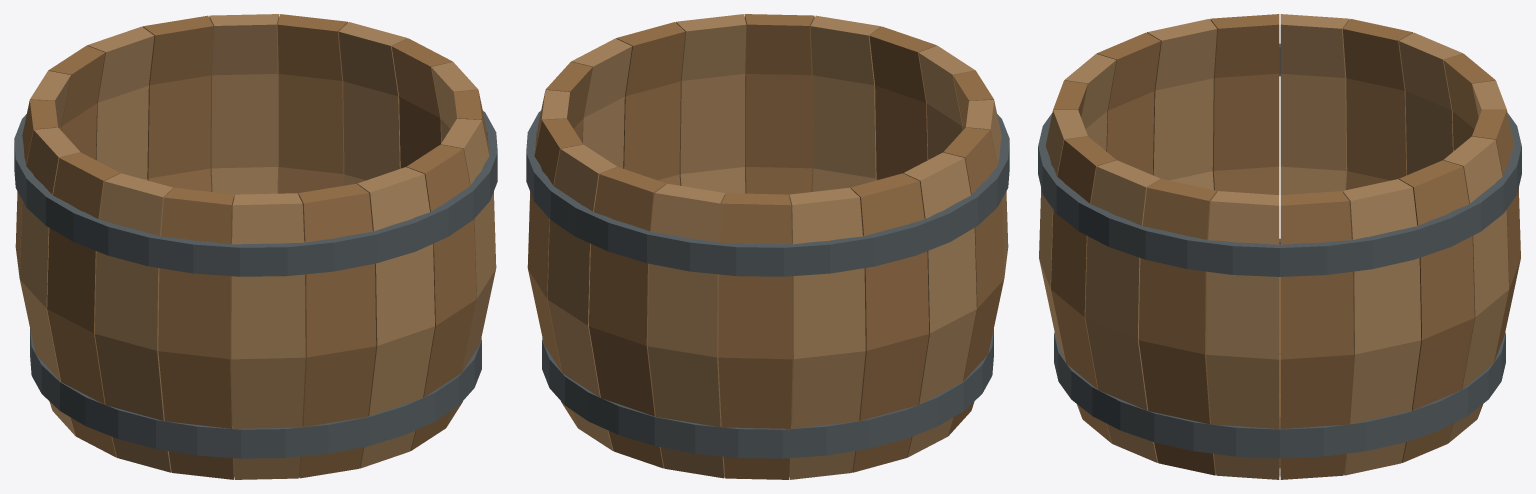
Rendered from barrel_half_open.glb.
The picture shows the model from 3 angles, left to right: view 1: azimuth 30°, elevation 25°; view 2: azimuth 150°, elevation 25°; view 3: azimuth 270°, elevation 25°; orthographic projection.
Parts seen in each view (by area): view 1: Half barrel iron band.001, Open half barrel wooden stave.013, Open half barrel wooden stave.012, Open half barrel wooden stave.014, Half barrel iron band, Open half barrel wooden stave.011, Open half barrel wooden stave.015, Open half barrel wooden stave.003, Open half barrel wooden stave.002, Open half barrel wooden stave.004, Open half barrel wooden stave.010, Open half barrel wooden stave.016 (+10 smaller); view 2: Half barrel iron band.001, Open half barrel wooden stave.006, Open half barrel wooden stave.007, Open half barrel wooden stave.005, Half barrel iron band, Open half barrel wooden stave.008, Open half barrel wooden stave.004, Open half barrel wooden stave.016, Open half barrel wooden stave.017, Open half barrel wooden stave.015, Open half barrel wooden stave.009, Open half barrel wooden stave.003 (+10 smaller); view 3: Half barrel iron band.001, Open half barrel wooden stave, Open half barrel wooden stave.019, Open half barrel wooden stave.001, Open half barrel wooden stave.018, Half barrel iron band, Open half barrel wooden stave.009, Open half barrel wooden stave.010, Open half barrel wooden stave.002, Open half barrel wooden stave.017, Open half barrel wooden stave.008, Open half barrel wooden stave.011 (+10 smaller).
Part boxes in pixels (left/top/right/bottom): Half barrel iron band.001: left=14, top=111, right=497, bottom=276; Open half barrel wooden stave.013: left=231, top=193, right=305, bottom=479; Open half barrel wooden stave.012: left=158, top=187, right=234, bottom=479; Open half barrel wooden stave.014: left=298, top=183, right=376, bottom=478; Half barrel iron band: left=30, top=329, right=481, bottom=458; Open half barrel wooden stave.011: left=94, top=173, right=173, bottom=472; Open half barrel wooden stave.015: left=357, top=167, right=434, bottom=468; Open half barrel wooden stave.003: left=209, top=14, right=279, bottom=197; Open half barrel wooden stave.002: left=277, top=14, right=347, bottom=194; Open half barrel wooden stave.004: left=142, top=15, right=213, bottom=191; Open half barrel wooden stave.010: left=47, top=152, right=120, bottom=457; Open half barrel wooden stave.016: left=406, top=144, right=476, bottom=450; Half barrel iron band.001: left=526, top=111, right=1009, bottom=276; Open half barrel wooden stave.006: left=718, top=193, right=792, bottom=479; Open half barrel wooden stave.007: left=789, top=187, right=865, bottom=479; Open half barrel wooden stave.005: left=647, top=183, right=725, bottom=478; Half barrel iron band: left=542, top=329, right=993, bottom=458; Open half barrel wooden stave.008: left=850, top=173, right=929, bottom=472; Open half barrel wooden stave.004: left=589, top=167, right=666, bottom=468; Open half barrel wooden stave.016: left=744, top=14, right=814, bottom=197; Open half barrel wooden stave.017: left=676, top=14, right=746, bottom=194; Open half barrel wooden stave.015: left=810, top=15, right=881, bottom=191; Open half barrel wooden stave.009: left=903, top=152, right=976, bottom=457; Open half barrel wooden stave.003: left=547, top=144, right=617, bottom=450; Half barrel iron band.001: left=1038, top=43, right=1521, bottom=276; Open half barrel wooden stave: left=1280, top=191, right=1353, bottom=479; Open half barrel wooden stave.019: left=1206, top=191, right=1279, bottom=479; Open half barrel wooden stave.001: left=1343, top=179, right=1421, bottom=475; Open half barrel wooden stave.018: left=1138, top=179, right=1216, bottom=475; Half barrel iron band: left=1054, top=238, right=1505, bottom=458; Open half barrel wooden stave.009: left=1280, top=14, right=1349, bottom=194; Open half barrel wooden stave.010: left=1210, top=14, right=1279, bottom=194; Open half barrel wooden stave.002: left=1399, top=160, right=1474, bottom=462; Open half barrel wooden stave.017: left=1085, top=160, right=1160, bottom=462; Open half barrel wooden stave.008: left=1343, top=19, right=1412, bottom=189; Open half barrel wooden stave.011: left=1147, top=19, right=1216, bottom=189.
Bounding box in the file's own units: 0.6521 × 0.42 × 0.6521.
